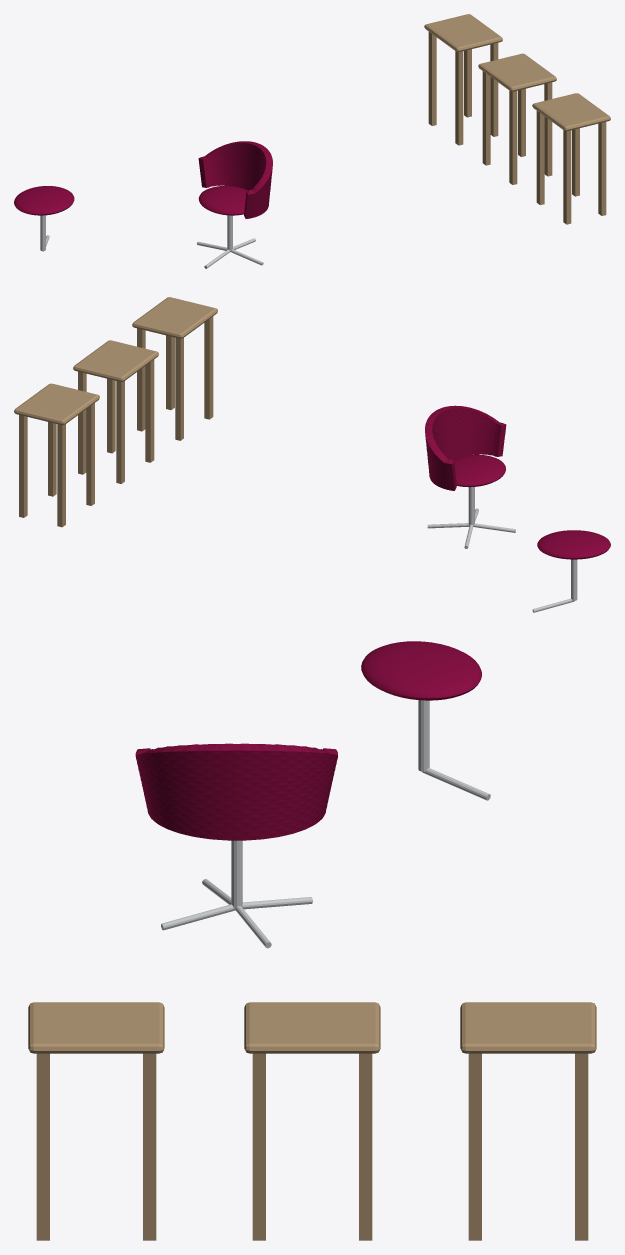
Rendered from SM_L2_Furniture_Solid_788bce91b1_0.fbx.
The picture shows the model from 3 angles, top to bottom: view 1: azimuth 30°, elevation 25°; view 2: azimuth 150°, elevation 25°; view 3: azimuth 270°, elevation 25°; orthographic projection. The views are drawn at different scales.
Parts seen in each view (by area): view 1: SM_L2_Furniture_Solid_788bce91b1_0; view 2: SM_L2_Furniture_Solid_788bce91b1_0; view 3: SM_L2_Furniture_Solid_788bce91b1_0.
Boxes of the visible parts, x1=… form: SM_L2_Furniture_Solid_788bce91b1_0: x1=14, y1=14, x2=610, y2=268; SM_L2_Furniture_Solid_788bce91b1_0: x1=14, y1=297, x2=610, y2=612; SM_L2_Furniture_Solid_788bce91b1_0: x1=28, y1=641, x2=596, y2=1240.
Bounding box in the file's own units: 4.26 × 2.1 × 0.8441.
